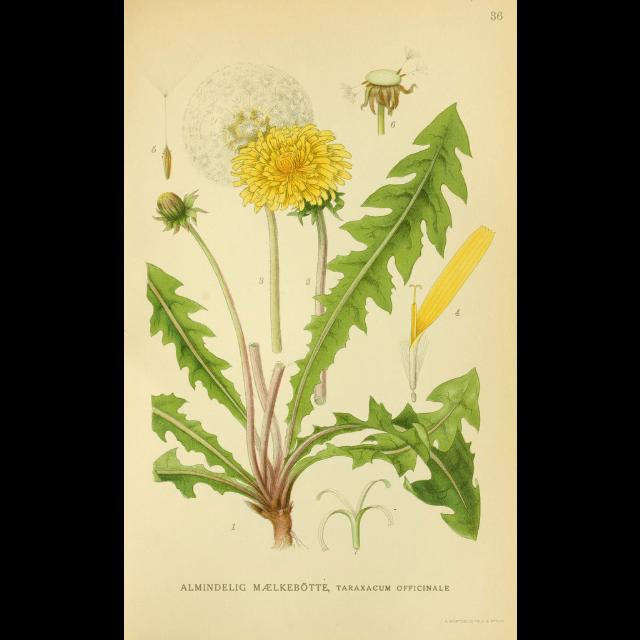Flower: (392, 222, 490, 394), (230, 124, 352, 216), (350, 48, 420, 134), (151, 193, 201, 230)
